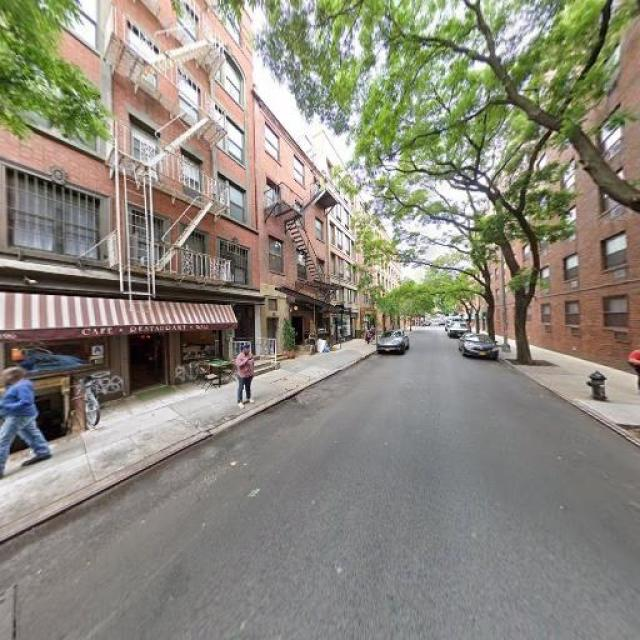Building: (1, 1, 258, 417), (487, 1, 640, 374), (261, 97, 325, 357)
